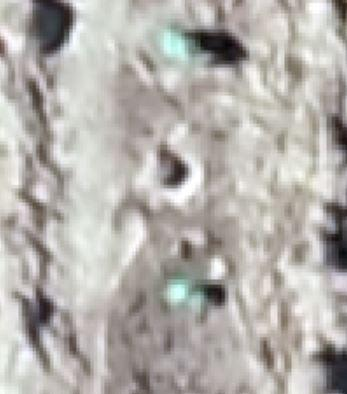cotton: (163, 34, 194, 58), (167, 282, 194, 305), (190, 295, 206, 316)
